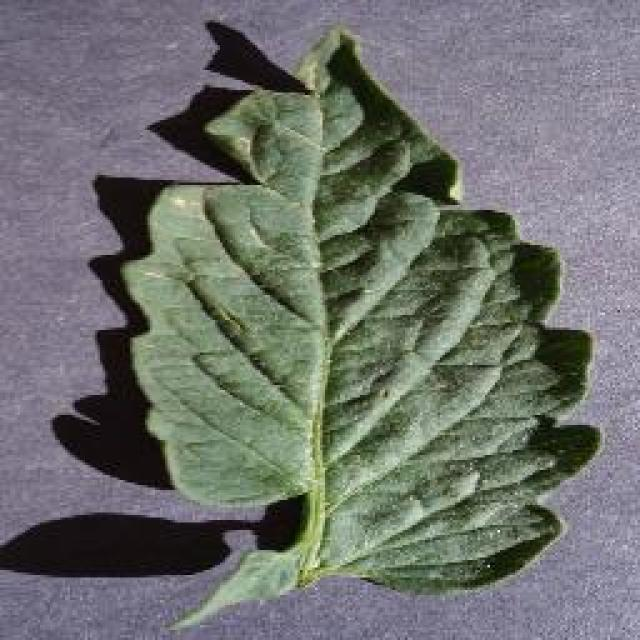Tomato_Healthy: (102, 21, 605, 594)
